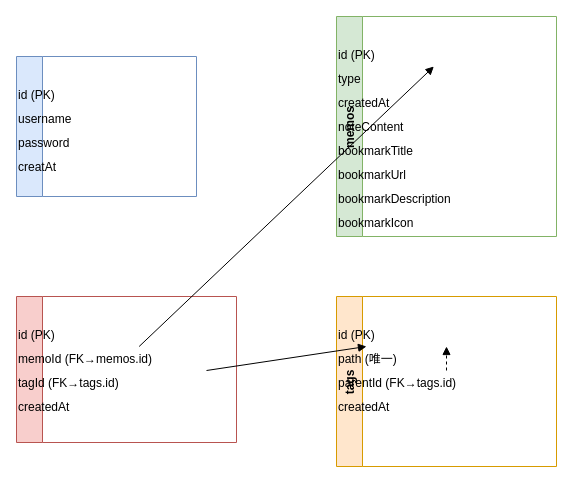
The diagram is 573 pixels wide and 483 high, and some of its shapes have lost their labels. The box of each missing label's shape, as (x1, y1, x2, y2) in pixels:
memo_tags: (16, 296, 236, 442)
users: (16, 56, 196, 196)
